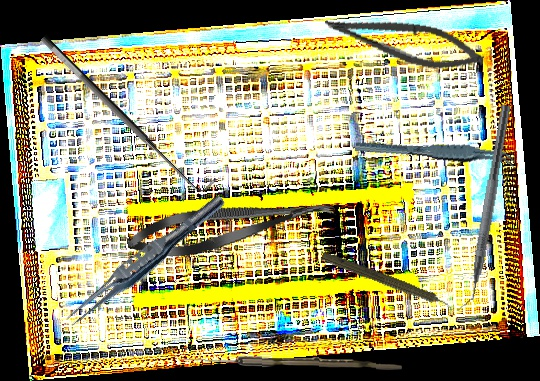Chopper: (453, 102, 512, 315)
Handpiece: (318, 248, 460, 318)
Hook Surgical: (37, 22, 218, 203)
Micro Scissor: (123, 186, 339, 266), (320, 7, 488, 78)
Surgical Spoon: (178, 355, 403, 370)
Tissue Forceps: (60, 187, 230, 335), (354, 123, 517, 182)
